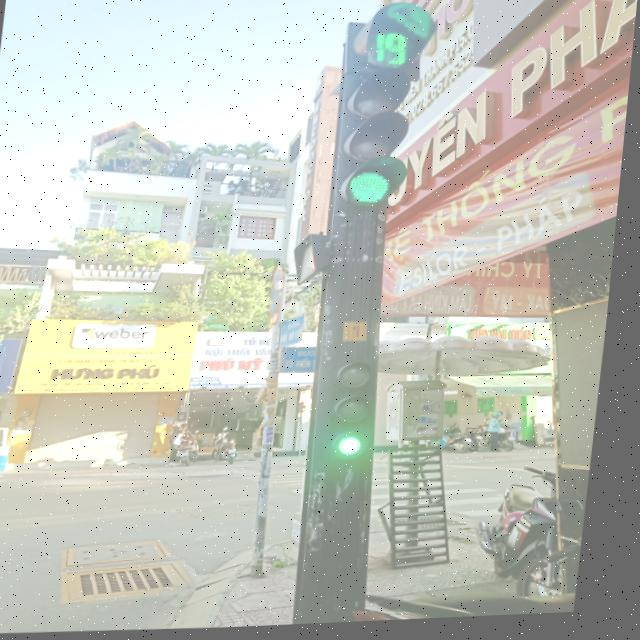Green: (332, 65, 423, 221), (318, 357, 391, 467)
